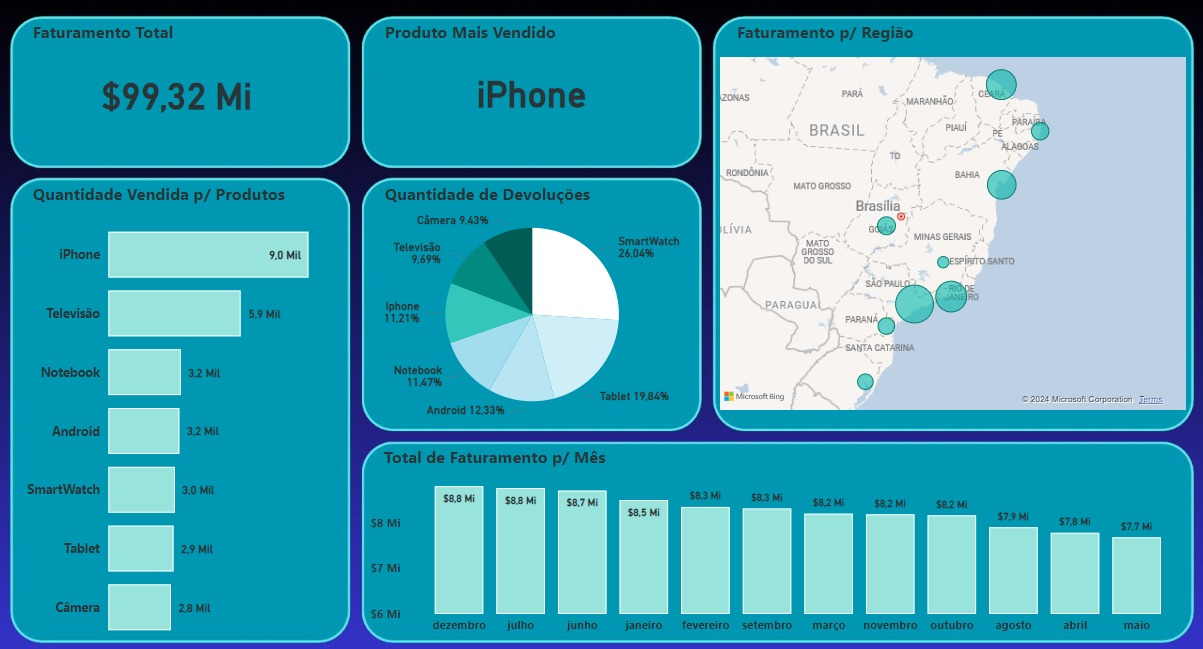

This screenshot's page, from the dashboard's own definition file:
{"tool":"powerbi","page":{"name":"Página 1","canvas":[1280,720],"ordinal":0},"visuals":[{"type":"barChart","fields":{"Category":["Base Vendas.Produto"],"Y":["Sum(Base Vendas.Quantidade Vendida)"]},"box":[22.7,218.3,343,493.2],"z":0},{"type":"card","fields":{"Values":["Sum(Base Vendas.Faturamento na venda)"]},"box":[35.4,28.4,306.1,158.7],"z":1000},{"type":"card","fields":{"Values":["Min(Base Vendas.Produto)"]},"box":[413.2,26.9,305.7,159.6],"z":2000},{"type":"columnChart","fields":{"Y":["Sum(Base Vendas.Faturamento na venda)"],"Category":["Base Vendas.Mês"]},"box":[388.4,513.1,878.7,180],"z":3000},{"type":"pieChart","fields":{"Y":["Sum(Base Devoluções.Quantidade Devolvida)"],"Category":["Base Devoluções.Produto"]},"box":[388.4,211.2,355.8,265],"z":4000},{"type":"map","fields":{"Category":["Base Vendas.Loja"],"Size":["Sum(Base Vendas.Faturamento na venda)"]},"box":[761.1,65.2,506,385.5],"z":5000},{"type":"shape","title":"Quantidade Vendida p/ Produtos","box":[35.4,202.7,318.9,43.9],"z":6000},{"type":"shape","title":"Faturamento Total","box":[35.4,31.2,318.9,43.9],"z":7000},{"type":"shape","title":"Produto Mais Vendido","box":[409.6,31.2,318.9,43.9],"z":8000},{"type":"shape","title":"Quantidade de Devoluções","box":[409.6,202.7,318.9,43.9],"z":9000},{"type":"shape","title":"Total de Faturamento p/ Mês","box":[408.2,483.3,318.9,43.9],"z":10000},{"type":"shape","title":"Faturamento p/ Região","box":[783.8,31.2,318.9,43.9],"z":11000}]}

Visuals, with their boxes in screenshot pixels (x1, y1, x2, y2):
barChart - Base Vendas.Produto x Sum(Base Vendas.Quantidade Vendida): (43, 188, 359, 643)
card - Sum(Base Vendas.Faturamento na venda): (55, 14, 336, 160)
card - Min(Base Vendas.Produto): (402, 12, 684, 159)
columnChart - Sum(Base Vendas.Faturamento na venda) x Base Vendas.Mês: (380, 460, 1189, 626)
pieChart - Sum(Base Devoluções.Quantidade Devolvida) x Base Devoluções.Produto: (380, 182, 707, 426)
map - Base Vendas.Loja x Sum(Base Vendas.Faturamento na venda): (723, 48, 1189, 403)
"Quantidade Vendida p/ Produtos" shape: (55, 174, 348, 215)
"Faturamento Total" shape: (55, 16, 348, 57)
"Produto Mais Vendido" shape: (399, 16, 693, 57)
"Quantidade de Devoluções" shape: (399, 174, 693, 215)
"Total de Faturamento p/ Mês" shape: (398, 433, 692, 473)
"Faturamento p/ Região" shape: (744, 16, 1037, 57)
